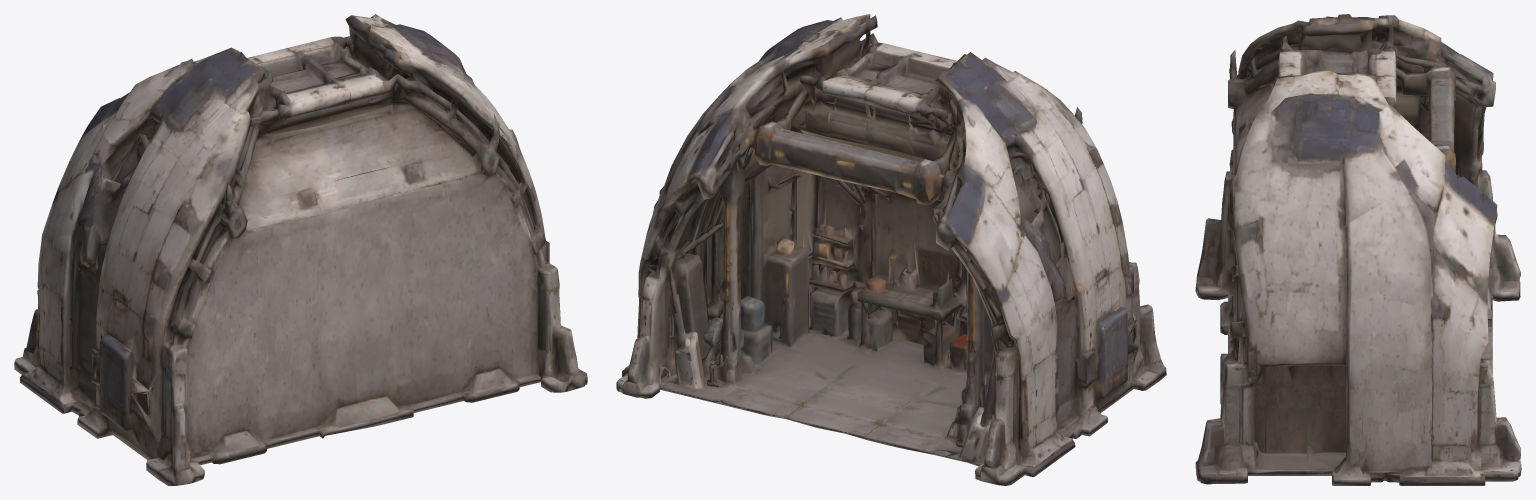
3 views of the same model, side by side, from view 1: azimuth 30°, elevation 25°; view 2: azimuth 150°, elevation 25°; view 3: azimuth 270°, elevation 25° (orthographic). The views are drawn at different scales.
Parts seen in each view (by area): view 1: CAMP-A01_Body, Roof; view 2: CAMP-A01_Body, Roof; view 3: CAMP-A01_Body, Roof.
Boxes of the visible parts, x1,y1,x2,y2 form: CAMP-A01_Body: [14, 107, 587, 485]; Roof: [100, 14, 510, 213]; CAMP-A01_Body: [616, 109, 1166, 485]; Roof: [689, 14, 1088, 218]; CAMP-A01_Body: [1195, 63, 1521, 485]; Roof: [1229, 14, 1492, 230].
Bounding box in the file's own units: 6 × 4.6 × 4.
1 material, 1 textured.
